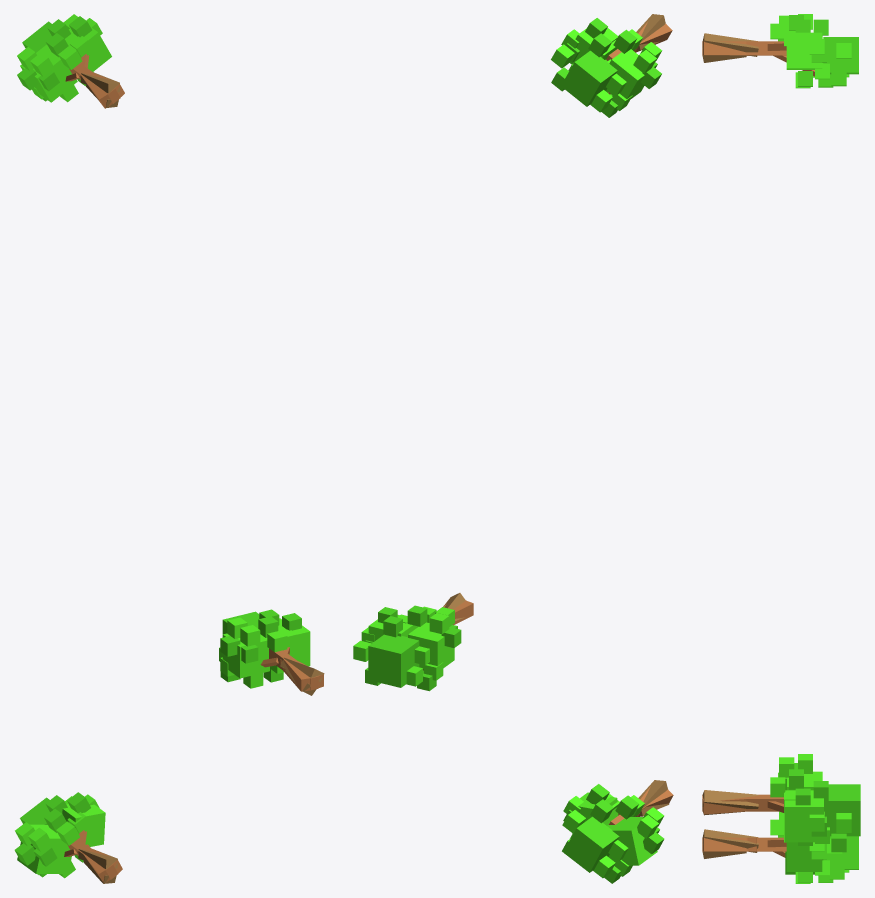
File: trees.dae
3 views of the same model, side by side, from view 1: azimuth 30°, elevation 25°; view 2: azimuth 150°, elevation 25°; view 3: azimuth 270°, elevation 25° (orthographic). The views are drawn at different scales.
Visible parts, largest first — view 1: Cube.083, Cube.374, Cube.398, Cube.082, Cube.397, Cube.373; view 2: Cube.372, Cube.095, Cube.410, Cube.083, Cube.374, Cube.398; view 3: Cube.372, Cube.373, Cube.397, Cube.410, Cube.082, Cube.353, Cube.095, Cube.404, Cube.089, Cube.085, Cube.400, Cube.348 (+2 smaller).
Boxes of the visible parts, x1,y1,x2,y2 form: Cube.083: (17, 824, 71, 873); Cube.374: (222, 633, 269, 678); Cube.398: (20, 45, 77, 102); Cube.082: (62, 803, 105, 846); Cube.397: (65, 27, 111, 71); Cube.373: (270, 620, 310, 673); Cube.372: (368, 634, 419, 687); Cube.095: (563, 816, 619, 872); Cube.410: (561, 50, 617, 106); Cube.083: (607, 817, 657, 865); Cube.374: (408, 622, 454, 669); Cube.398: (606, 49, 644, 98); Cube.372: (824, 784, 860, 836); Cube.373: (784, 790, 823, 842); Cube.397: (786, 32, 822, 69); Cube.410: (823, 37, 858, 74); Cube.082: (786, 842, 822, 871); Cube.353: (702, 790, 758, 808); Cube.095: (823, 836, 858, 869); Cube.404: (702, 33, 758, 56); Cube.089: (702, 829, 758, 852); Cube.085: (702, 837, 746, 851); Cube.400: (702, 41, 746, 55); Cube.348: (702, 797, 746, 814).
Bounding box in the file's own units: 32.75 × 15.01 × 91.94.
